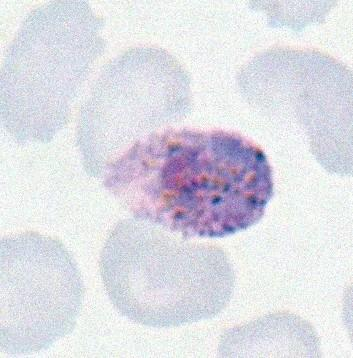Infected: (105, 121, 270, 239), (235, 41, 353, 175), (101, 216, 232, 328), (2, 1, 94, 153), (73, 47, 190, 165), (0, 231, 90, 354)
